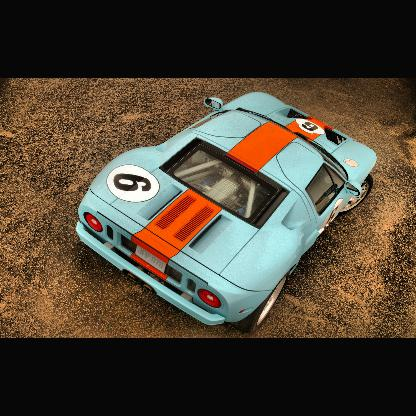Ford GT Coupe 2006: (77, 93, 377, 334)
